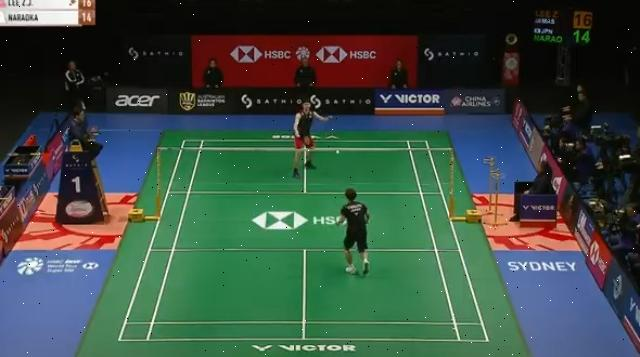Shuttlecock: (332, 150, 340, 155)
